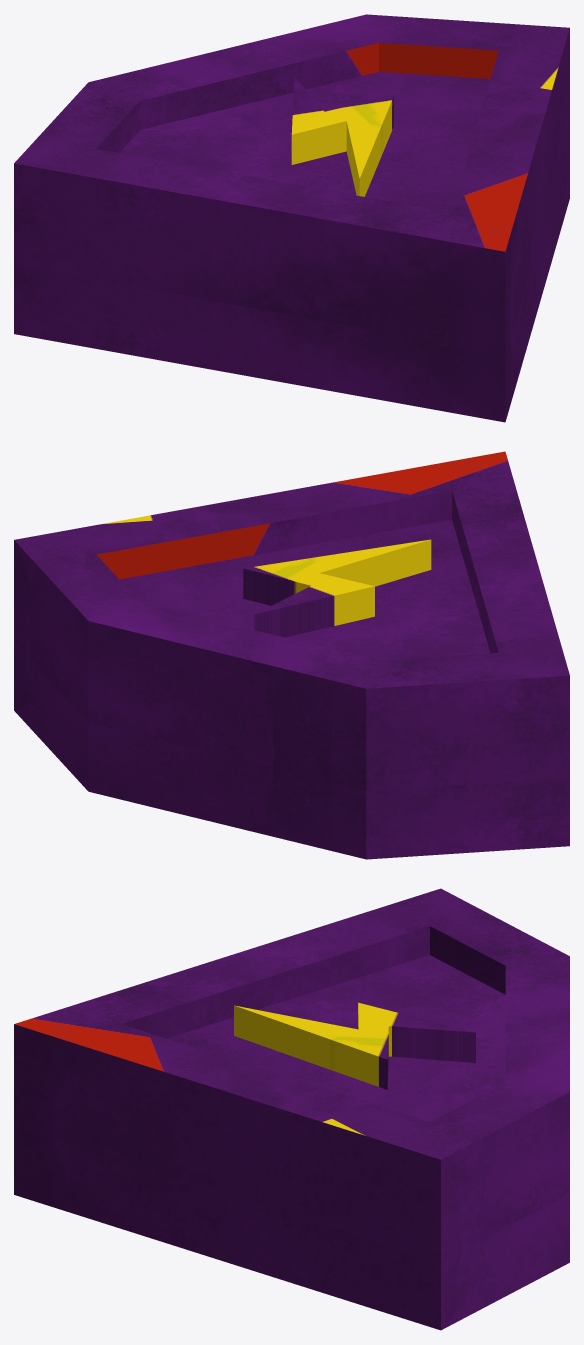
The model's file is Energy.FBX.
3 renders of one model, top to bottom at view 1: azimuth 30°, elevation 25°; view 2: azimuth 150°, elevation 25°; view 3: azimuth 270°, elevation 25°, orthographic.
Parts seen in each view (by area): view 1: Cylinder027; view 2: Cylinder027; view 3: Cylinder027.
Part boxes in pixels (x1,y1,x2,y2): Cylinder027: (14,14,569,422); Cylinder027: (14,451,569,859); Cylinder027: (14,888,569,1330).
Size of the model in its own units: 20 by 17.32 by 5.95.
